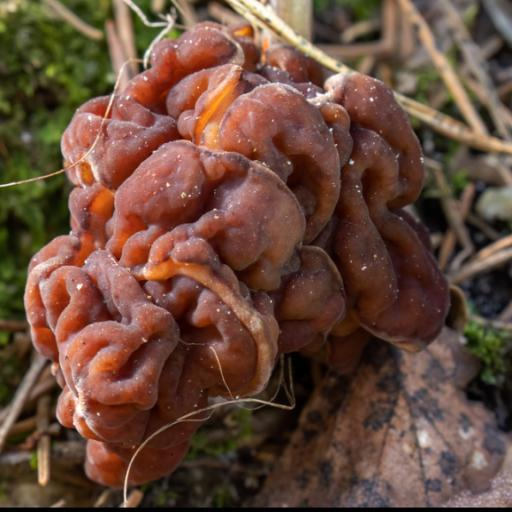mushroom: (0, 0, 489, 476)
